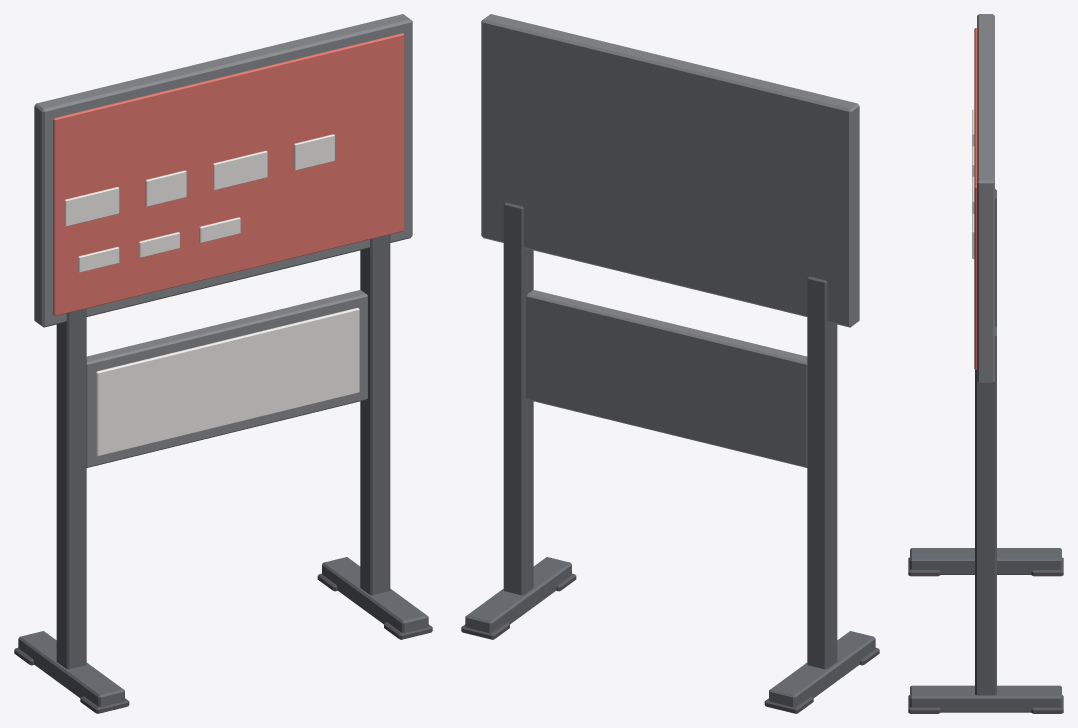
File: signage_board.glb
3 renders of one model, left to right at view 1: azimuth 30°, elevation 25°; view 2: azimuth 150°, elevation 25°; view 3: azimuth 270°, elevation 25°, orthographic. The views are drawn at different scales.
Parts seen in each view (by area): view 1: gym-signage-board; view 2: gym-signage-board; view 3: gym-signage-board.
Boxes of the visible parts, x1,y1,x2,y2 form: gym-signage-board: (14, 14, 432, 713); gym-signage-board: (461, 14, 879, 713); gym-signage-board: (908, 14, 1063, 713).
Bounding box in the file's own units: 1.1 × 1.65 × 0.43.
